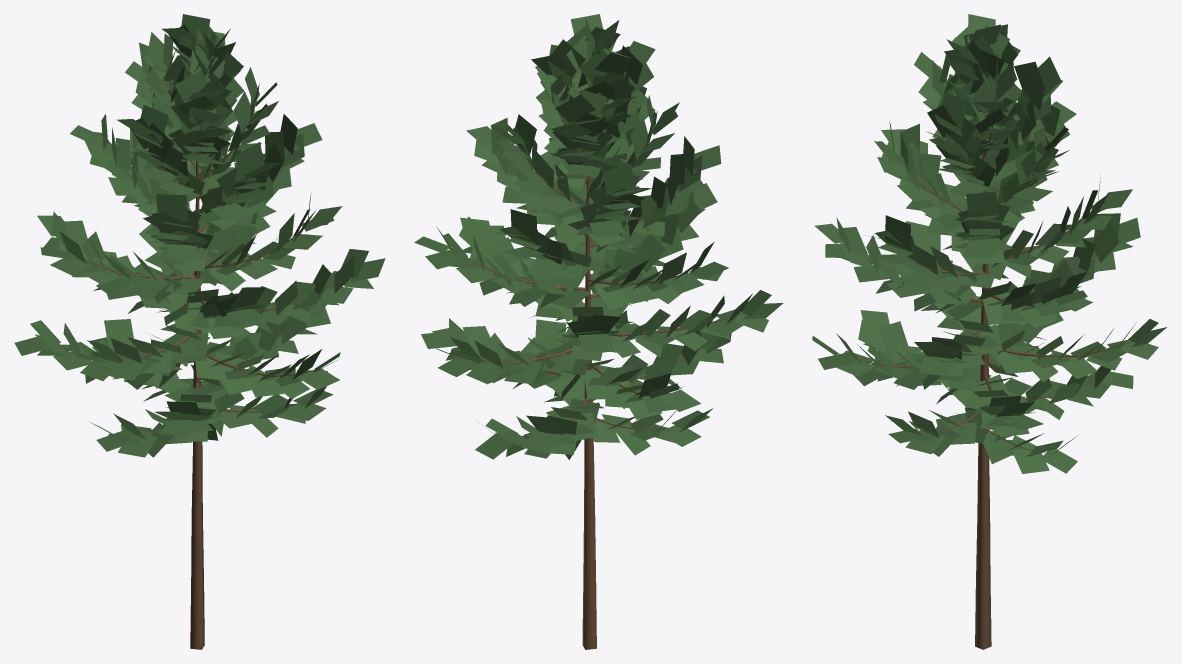
The model's file is treerotated.fbx.
3 views of the same model, side by side, from view 1: azimuth 30°, elevation 25°; view 2: azimuth 150°, elevation 25°; view 3: azimuth 270°, elevation 25° (orthographic).
Parts seen in each view (by area): view 1: Tree1_high1; view 2: Tree1_high1; view 3: Tree1_high1.
Part boxes in pixels (x1,y1,x2,y2): Tree1_high1: (14,14,385,649); Tree1_high1: (414,14,783,649); Tree1_high1: (812,14,1166,649).
Bounding box in the file's own units: 626 × 1196 × 620.
